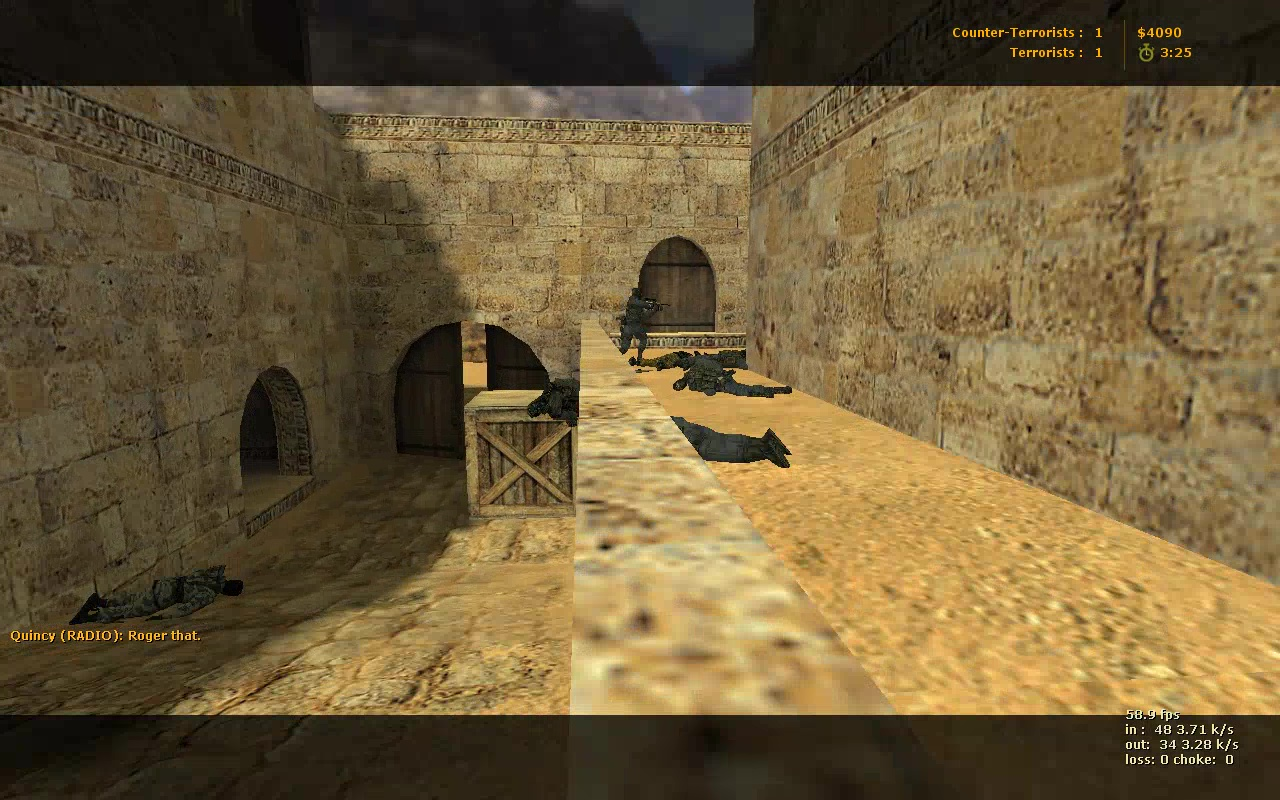ct: (610, 286, 656, 370)
dead: (70, 565, 246, 626), (670, 420, 790, 469), (676, 357, 792, 401), (636, 350, 748, 370)
